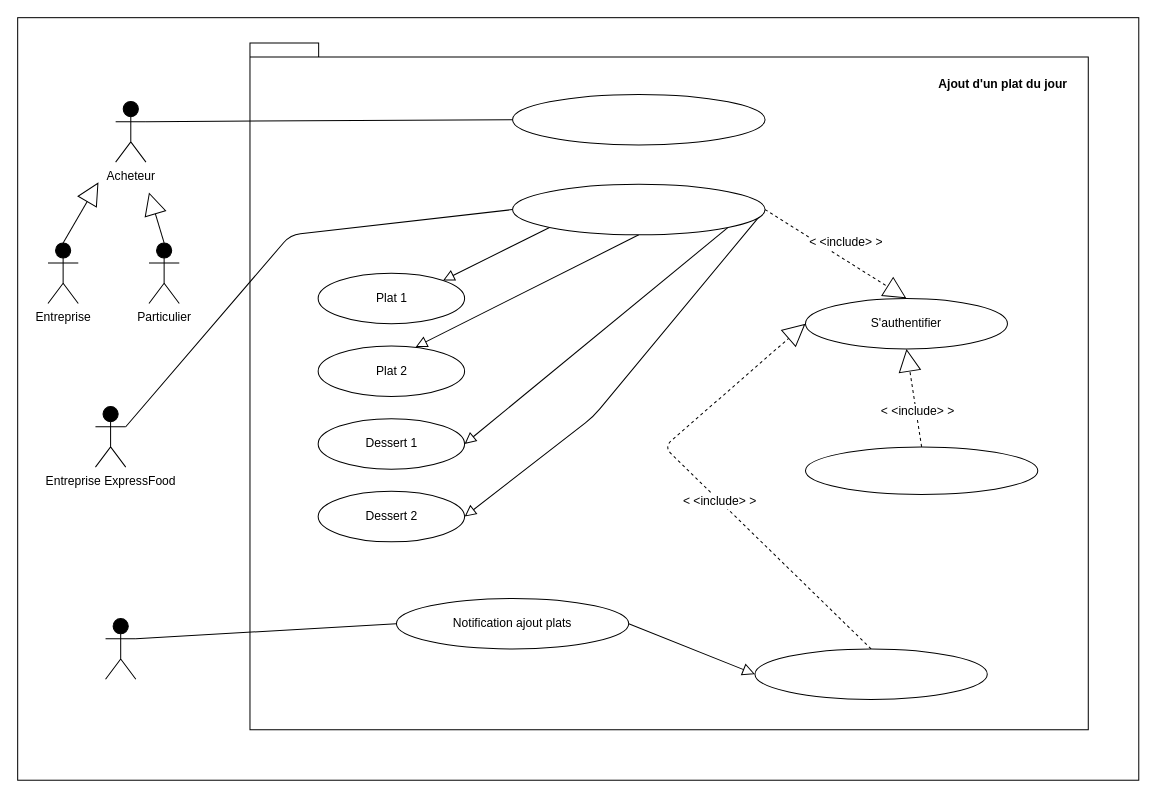
Image size: 1156x798. Some labels were removed from this diagram. Here are the shapes that lost their labels. From the top down, the box of each, then its label:
(512, 93, 765, 145): Consulter la carte
(512, 183, 765, 235): Modifier la carte
(804, 446, 1038, 494): Ajout des plats du jour (en ligne)
(105, 618, 136, 679): Livreur
(754, 648, 987, 699): Consulter nouvelle carte
